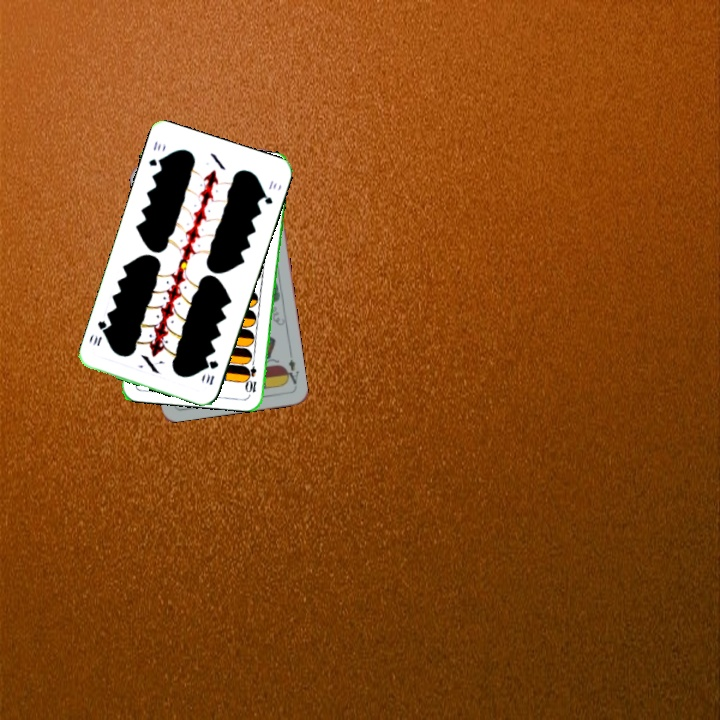E10: (244, 354, 259, 395)
EA: (280, 355, 301, 387)
G10: (145, 137, 166, 169), (202, 356, 221, 388)
